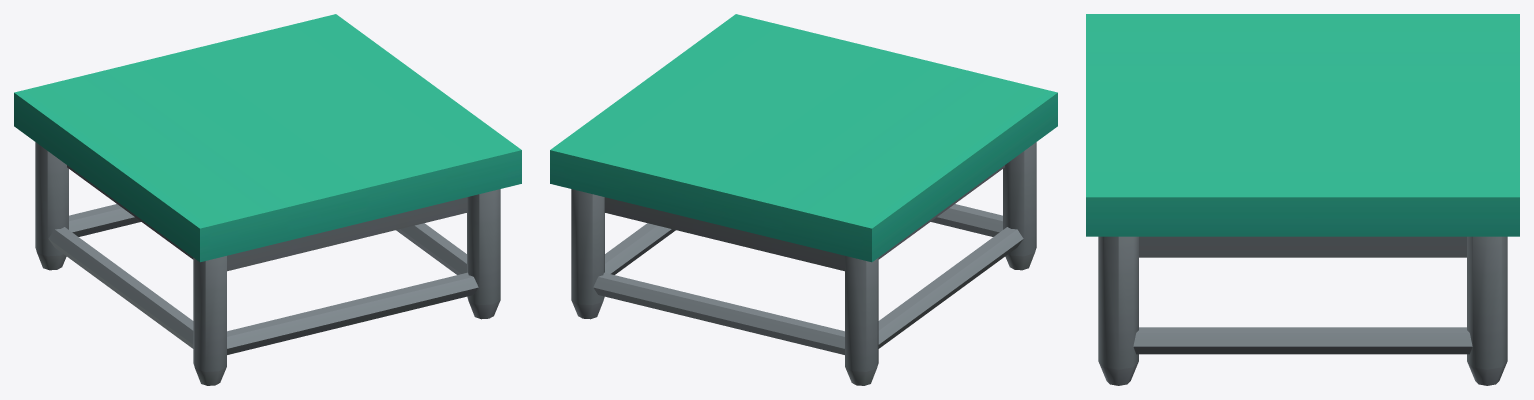
File: kitchentable-b.glb
3 views of the same model, side by side, from view 1: azimuth 30°, elevation 25°; view 2: azimuth 150°, elevation 25°; view 3: azimuth 270°, elevation 25° (orthographic). The views are drawn at different scales.
Visible parts, largest first — view 1: kitchentable_B; view 2: kitchentable_B; view 3: kitchentable_B.
Boxes of the visible parts, bbox=[...] form: kitchentable_B: bbox=[14, 14, 521, 385]; kitchentable_B: bbox=[550, 14, 1057, 385]; kitchentable_B: bbox=[1086, 14, 1519, 385].
Size of the model in its own units: 2 by 1 by 2.
Materials: 1 (1 with a texture image).
